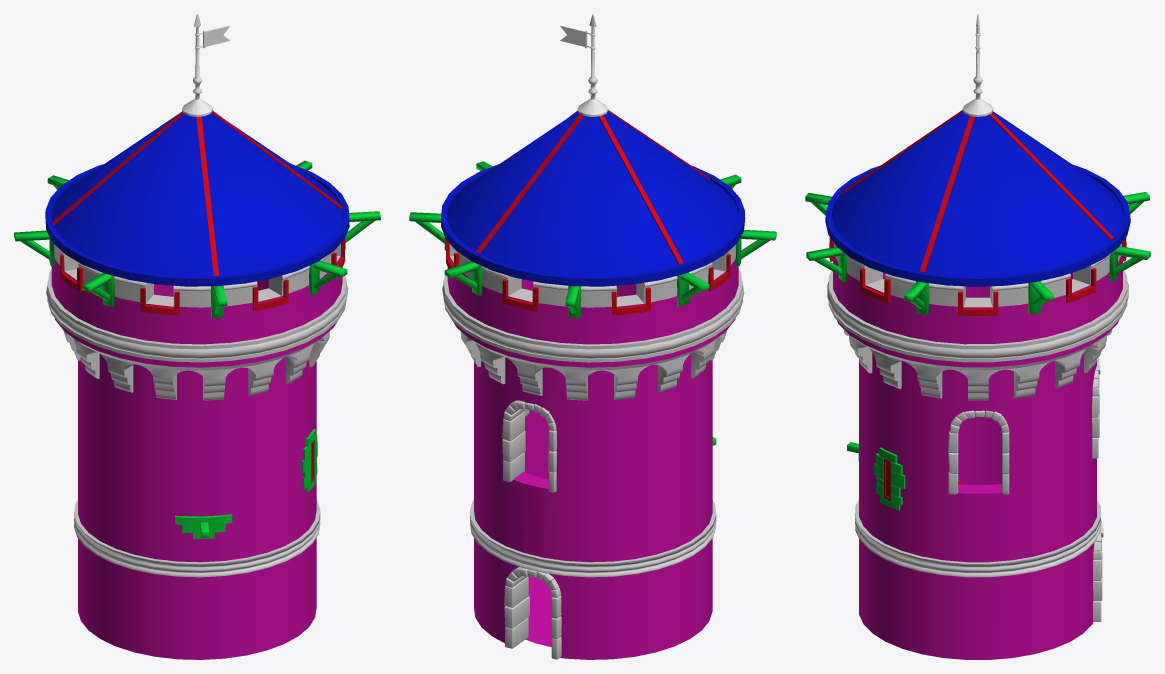
File: Tower_3 (1).fbx
The picture shows the model from 3 angles, left to right: view 1: azimuth 30°, elevation 25°; view 2: azimuth 150°, elevation 25°; view 3: azimuth 270°, elevation 25°; orthographic projection.
Visible parts, largest first — view 1: Tower_1.004, Group_4.010, Group_4.011, Group_2, Group_2.007; view 2: Tower_1.004, Group_4.010, Group_4.011; view 3: Tower_1.004, Group_4.010, Group_2.007, Group_4.011.
Part boxes in pixels (x1,y1,x2,y2): Tower_1.004: (46,239,348,659); Group_4.010: (14,111,380,318); Group_4.011: (182,14,230,116); Group_2: (175,514,232,538); Group_2.007: (301,429,317,491); Tower_1.004: (442,239,744,659); Group_4.010: (409,110,776,318); Group_4.011: (560,14,608,116); Tower_1.004: (827,237,1128,659); Group_4.010: (805,110,1150,314); Group_2.007: (874,447,905,510); Group_4.011: (962,14,993,116).
Size of the model in its own units: 932 by 1774 by 932.
